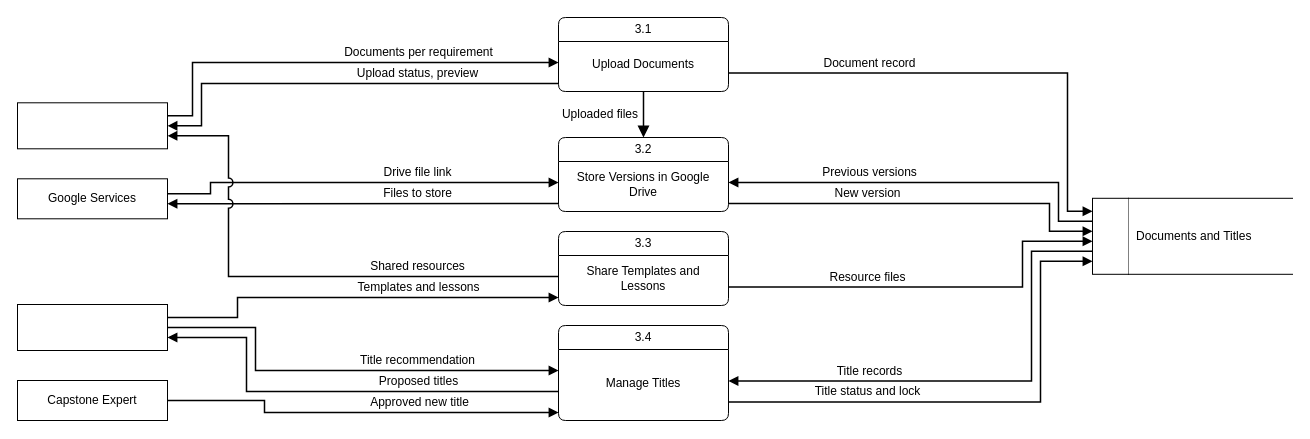
This 1310x439 diagram has some shape labels left out. Here are the shapes that lost their labels. From the top down, the centre of each, then its label:
At (x=92, y=125): "Student".
At (x=1110, y=235): "D4".
At (x=92, y=327): "CaPSA".
